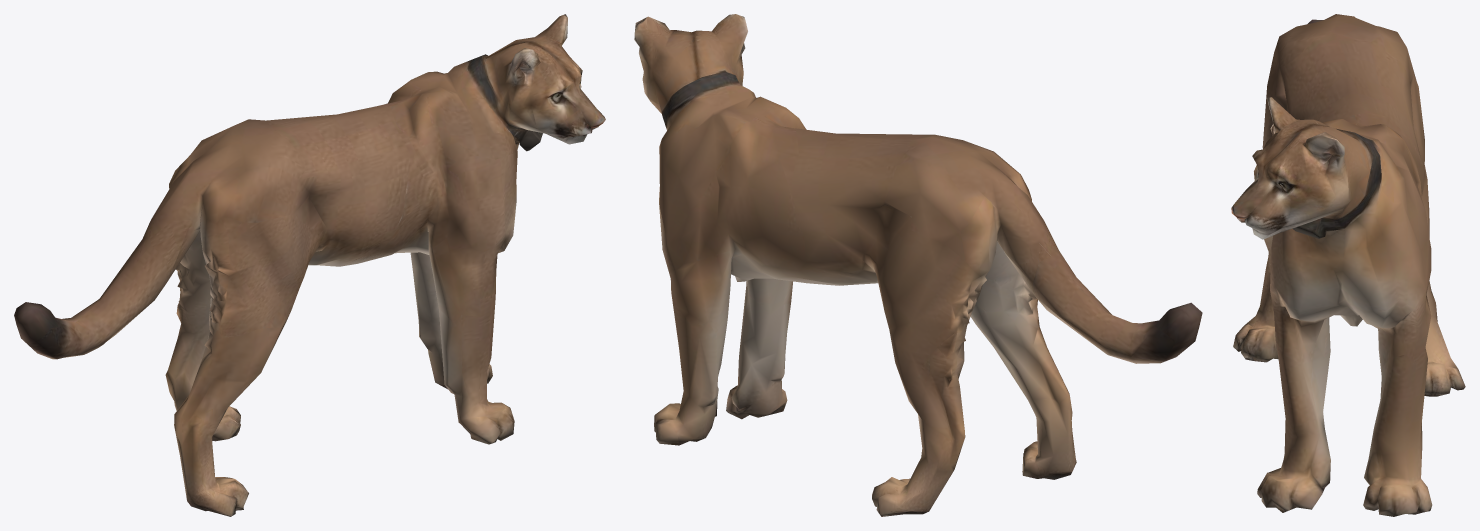
File: SANDSTEP-lo.glb
3 views of the same model, side by side, from view 1: azimuth 30°, elevation 25°; view 2: azimuth 150°, elevation 25°; view 3: azimuth 270°, elevation 25° (orthographic). The views are drawn at different scales.
Parts seen in each view (by area): view 1: tripo_node_57e53e9e-4067-4c0b-ad34-fdf3f029fe50; view 2: tripo_node_57e53e9e-4067-4c0b-ad34-fdf3f029fe50; view 3: tripo_node_57e53e9e-4067-4c0b-ad34-fdf3f029fe50.
Part boxes in pixels (x1=…): tripo_node_57e53e9e-4067-4c0b-ad34-fdf3f029fe50: x1=14, y1=14, x2=605, y2=516; tripo_node_57e53e9e-4067-4c0b-ad34-fdf3f029fe50: x1=634, y1=14, x2=1202, y2=516; tripo_node_57e53e9e-4067-4c0b-ad34-fdf3f029fe50: x1=1231, y1=14, x2=1465, y2=516.
Size of the model in its own units: 1.51 by 0.9985 by 0.504.
Materials: 1 (1 with a texture image).
